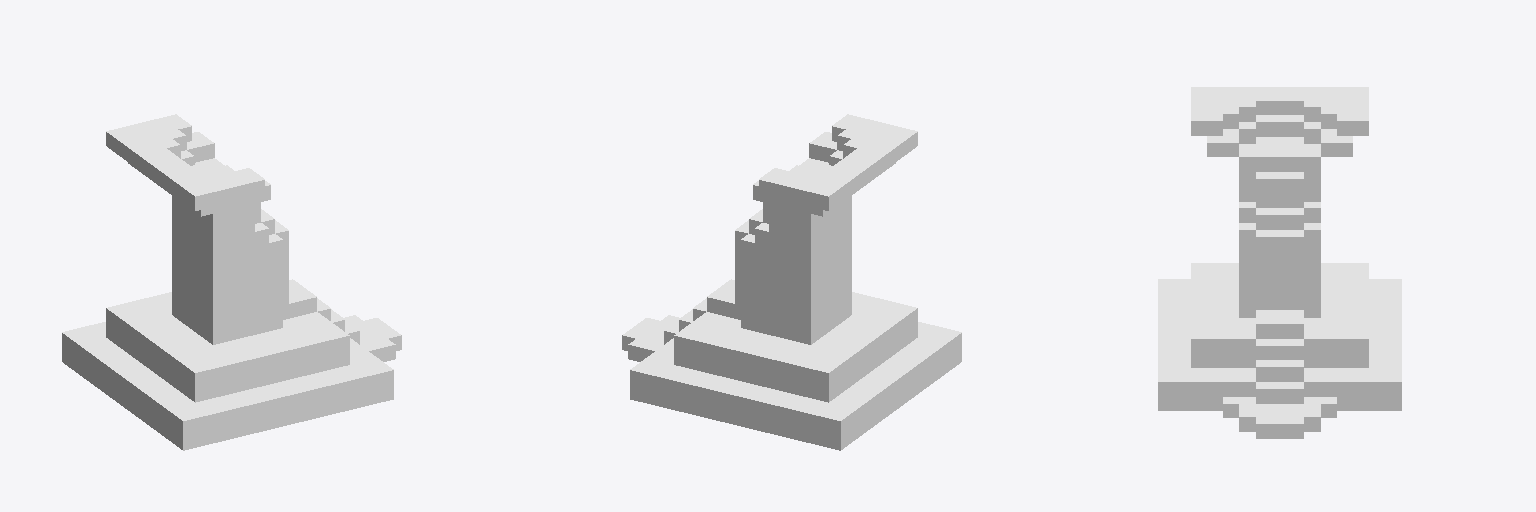
The model's file is Portal_3.4.1.obj.
The picture shows the model from 3 angles: view 1: azimuth 30°, elevation 25°; view 2: azimuth 150°, elevation 25°; view 3: azimuth 270°, elevation 25°; orthographic projection.
Parts seen in each view (by area): view 1: object 1; view 2: object 1; view 3: object 1.
Boxes of the visible parts, box(x1,y1,x2,y2) form: object 1: box(62, 114, 401, 450); object 1: box(622, 114, 961, 450); object 1: box(1158, 87, 1401, 438).
Bounding box in the file's own units: 1.9 × 1.6 × 1.5.